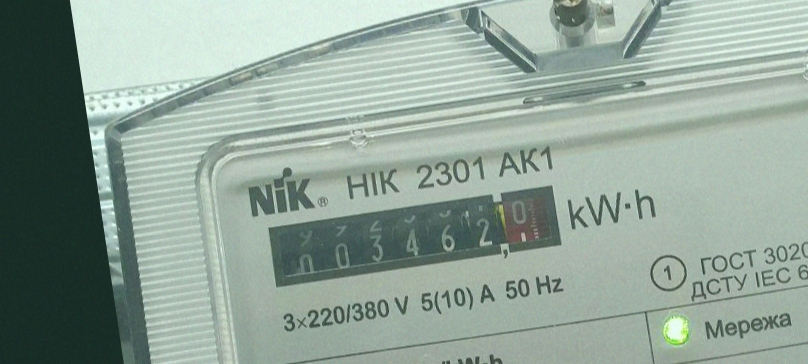0: (331, 239, 353, 270), (508, 197, 529, 228), (294, 250, 316, 276)
2: (473, 215, 495, 249)
3: (365, 232, 387, 266)
4: (401, 225, 423, 259)
6: (435, 220, 460, 256)
9: (294, 228, 316, 249)
screen: (253, 172, 575, 308)
